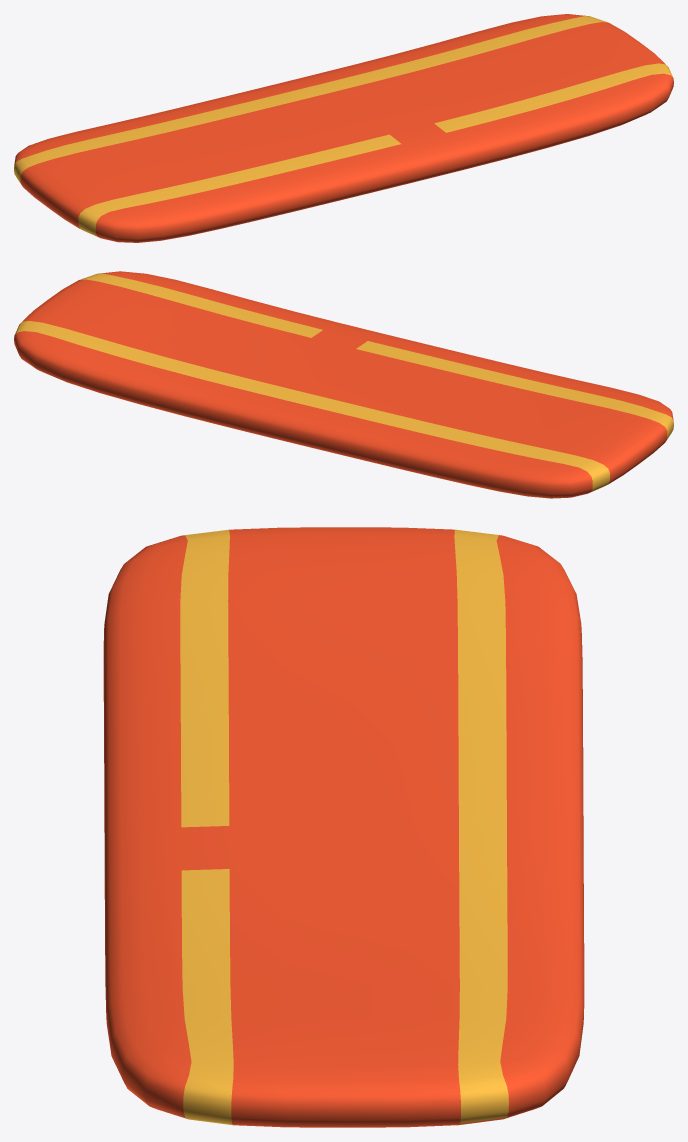
File: board.fbx
3 renders of one model, top to bottom at view 1: azimuth 30°, elevation 25°; view 2: azimuth 150°, elevation 25°; view 3: azimuth 270°, elevation 25°, orthographic. The views are drawn at different scales.
Visible parts, largest first — view 1: board; view 2: board; view 3: board.
Part boxes in pixels (x1,y1,x2,y2): board: [14, 14, 673, 242]; board: [14, 271, 673, 498]; board: [103, 527, 584, 1127].
Size of the model in its own units: 379 by 23.96 by 132.
